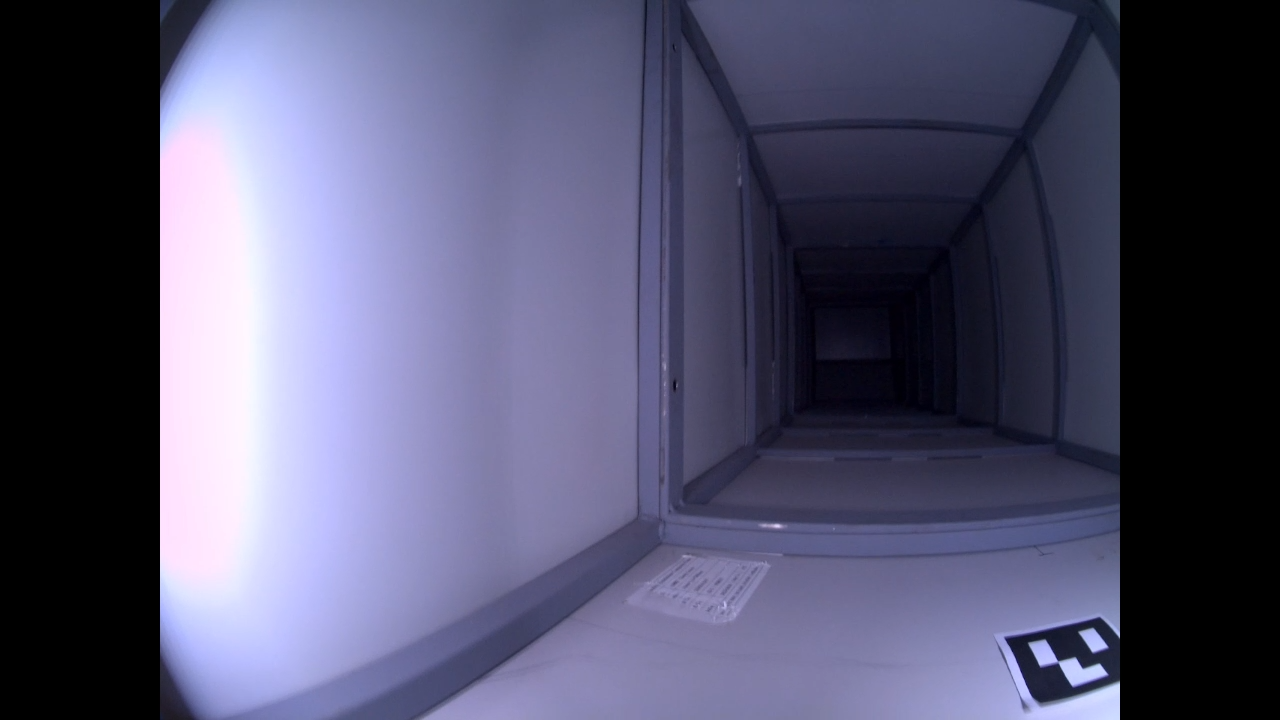divider: (728, 111, 1073, 474)
